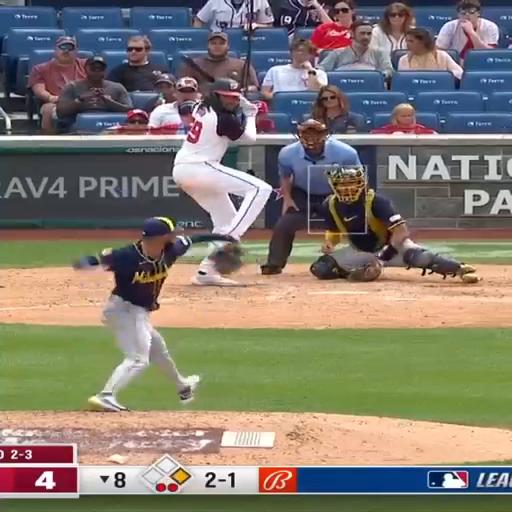bat: (181, 52, 222, 83)
